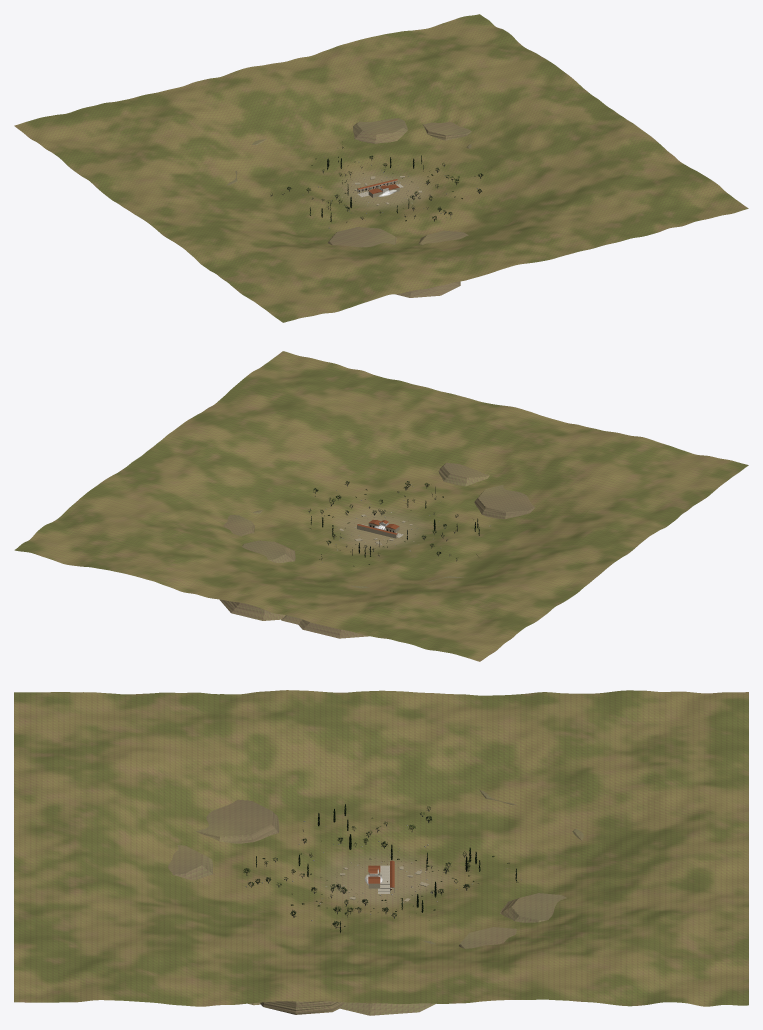
File: efes-hadrianus-tapinagi-baked.glb
3 renders of one model, top to bottom at view 1: azimuth 30°, elevation 25°; view 2: azimuth 150°, elevation 25°; view 3: azimuth 270°, elevation 25°, orthographic. The views are drawn at different scales.
Visible parts, largest first — view 1: efes-hadrianus-tapinagi-terrain, efes-hadrianus-tapinagi-near, efes-hadrianus-tapinagi-ground, efes-hadrianus-tapinagi-flora; view 2: efes-hadrianus-tapinagi-terrain, efes-hadrianus-tapinagi-near, efes-hadrianus-tapinagi-ground, efes-hadrianus-tapinagi-flora; view 3: efes-hadrianus-tapinagi-terrain, efes-hadrianus-tapinagi-near, efes-hadrianus-tapinagi-ground, efes-hadrianus-tapinagi-flora.
Boxes of the visible parts, box(x1,y1,x2,y2) form: efes-hadrianus-tapinagi-terrain: box(14, 14, 748, 322); efes-hadrianus-tapinagi-near: box(227, 118, 471, 247); efes-hadrianus-tapinagi-ground: box(228, 121, 471, 297); efes-hadrianus-tapinagi-flora: box(270, 146, 483, 228); efes-hadrianus-tapinagi-terrain: box(14, 351, 748, 661); efes-hadrianus-tapinagi-near: box(223, 462, 534, 588); efes-hadrianus-tapinagi-ground: box(219, 463, 535, 638); efes-hadrianus-tapinagi-flora: box(308, 481, 490, 566); efes-hadrianus-tapinagi-terrain: box(14, 690, 748, 1006); efes-hadrianus-tapinagi-near: box(168, 790, 583, 948); efes-hadrianus-tapinagi-ground: box(173, 789, 581, 1015); efes-hadrianus-tapinagi-flora: box(243, 804, 521, 932).
Size of the model in its own units: 660 by 44.28 by 660.
27 materials, 19 textured.
